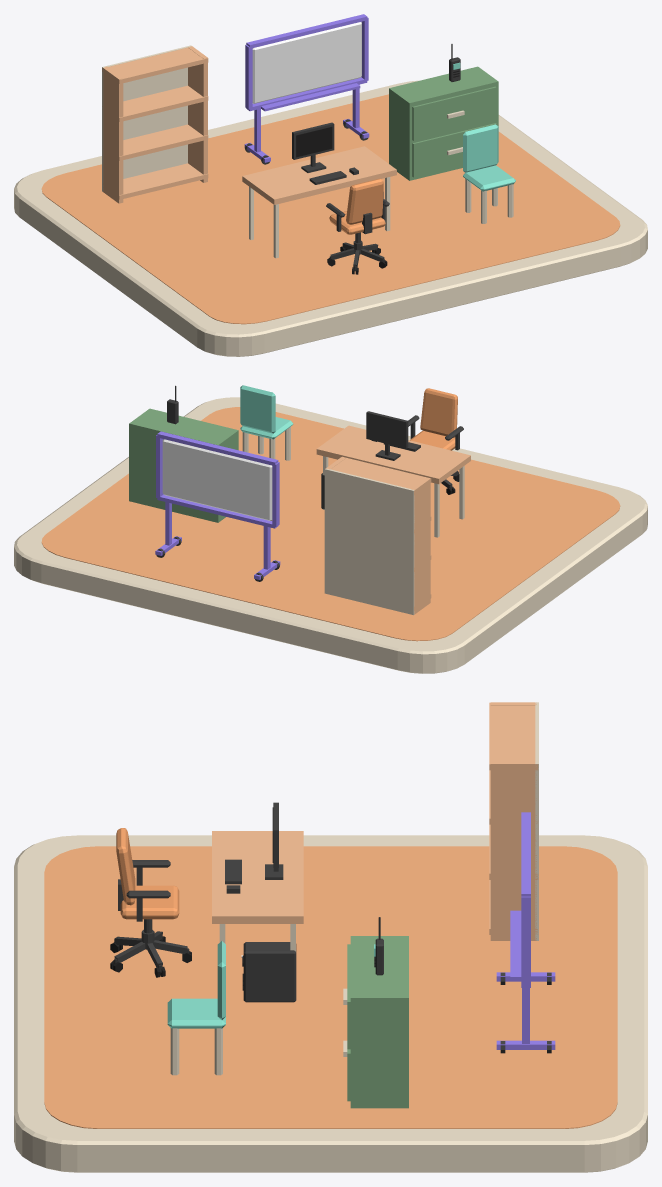
The picture shows the model from 3 angles, top to bottom: view 1: azimuth 30°, elevation 25°; view 2: azimuth 150°, elevation 25°; view 3: azimuth 270°, elevation 25°; orthographic projection. The views are drawn at different scales.
Visible parts, largest first — view 1: COM-02 Floor Surface, COM-01 Rounded Base Direct, Cabinet, Writing surface, Top, Back, COM-04_Chair_blender_direct, Side, Side.001, Shelf.003, Shelf, Shelf.001 (+8 smaller); view 2: COM-02 Floor Surface, COM-01 Rounded Base Direct, Back, Writing surface, Cabinet, Top, COM-04_Chair_blender_direct, Side, Backrest, Frame, Shelf.003, Frame rail.001 (+4 smaller); view 3: COM-02 Floor Surface, COM-01 Rounded Base Direct, Cabinet, Top, Side.001, COM-04_Chair_blender_direct, Tower, Shelf.003, Seat, Back, Frame upright.001, Frame rail.001 (+3 smaller).
Part boxes in pixels (bbox=[...]): COM-02 Floor Surface: bbox=[41, 94, 620, 324]; COM-01 Rounded Base Direct: bbox=[14, 80, 647, 356]; Cabinet: bbox=[389, 66, 498, 180]; Writing surface: bbox=[252, 22, 361, 103]; Top: bbox=[242, 146, 396, 258]; Back: bbox=[102, 45, 191, 191]; COM-04_Chair_blender_direct: bbox=[326, 178, 389, 274]; Side: bbox=[103, 66, 123, 203]; Side.001: bbox=[188, 46, 207, 182]; Shelf.003: bbox=[102, 47, 208, 83]; Shelf: bbox=[103, 163, 208, 199]; Shelf.001: bbox=[103, 124, 208, 160]; COM-02 Floor Surface: bbox=[41, 407, 620, 641]; COM-01 Rounded Base Direct: bbox=[14, 397, 647, 673]; Back: bbox=[324, 468, 414, 615]; Writing surface: bbox=[162, 439, 272, 520]; Cabinet: bbox=[129, 408, 238, 522]; Top: bbox=[316, 425, 470, 537]; COM-04_Chair_blender_direct: bbox=[408, 388, 463, 494]; Side: bbox=[411, 477, 430, 614]; Backrest: bbox=[240, 385, 275, 433]; Frame: bbox=[366, 411, 408, 460]; Shelf.003: bbox=[331, 456, 431, 494]; Frame rail.001: bbox=[157, 431, 278, 465]; COM-02 Floor Surface: bbox=[44, 846, 617, 1128]; COM-01 Rounded Base Direct: bbox=[14, 835, 647, 1172]; Cabinet: bbox=[343, 936, 408, 1108]; Top: bbox=[212, 831, 303, 951]; Side.001: bbox=[490, 761, 536, 940]; COM-04_Chair_blender_direct: bbox=[110, 828, 191, 977]; Tower: bbox=[243, 942, 296, 1002]; Shelf.003: bbox=[489, 702, 538, 770]; Seat: bbox=[167, 998, 225, 1028]; Back: bbox=[535, 702, 538, 940]; Frame upright.001: bbox=[521, 896, 530, 986]; Frame rail.001: bbox=[521, 812, 530, 896].
Size of the model in its own units: 6 by 1.9 by 5.2.
Materials: 1 (1 with a texture image).
